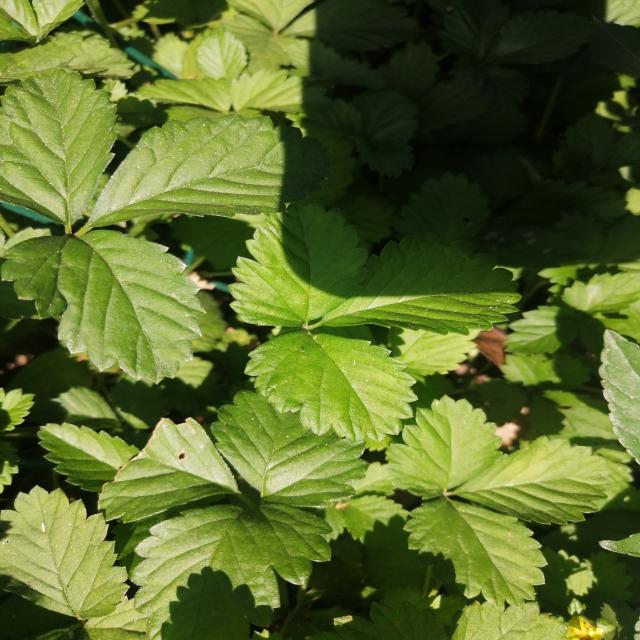Mock_strawberry: (50, 386, 585, 605), (164, 193, 520, 408)
